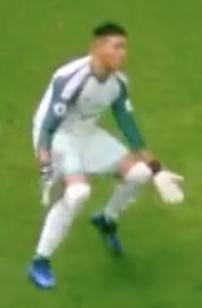goalkeeper: (8, 6, 202, 300)
